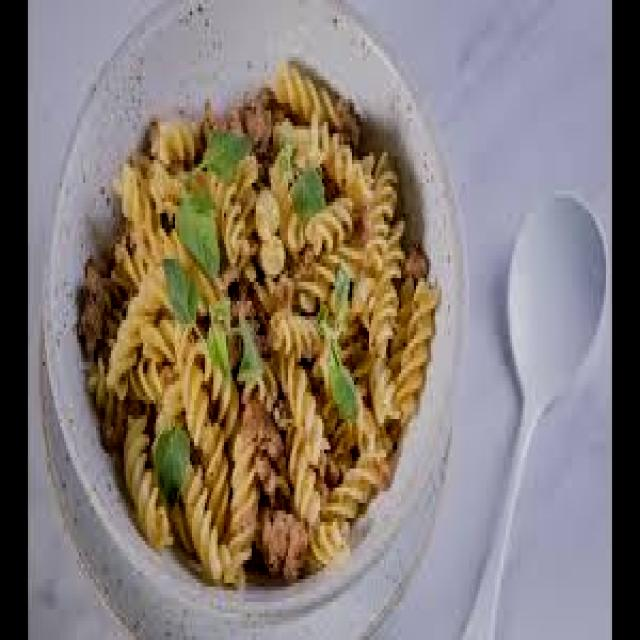pasta: (113, 73, 401, 554)
